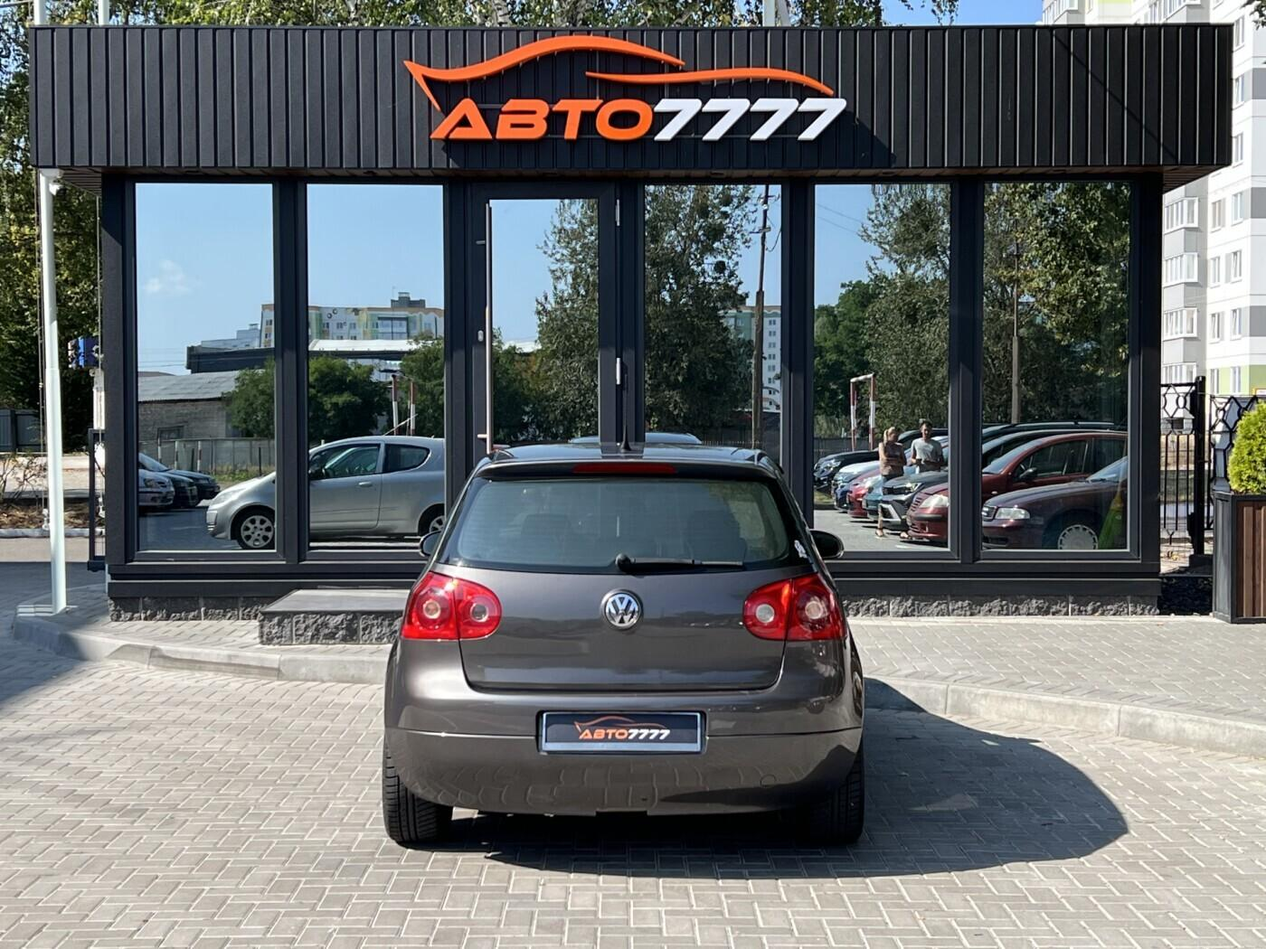Golf_2003-2009: (374, 438, 885, 860)
